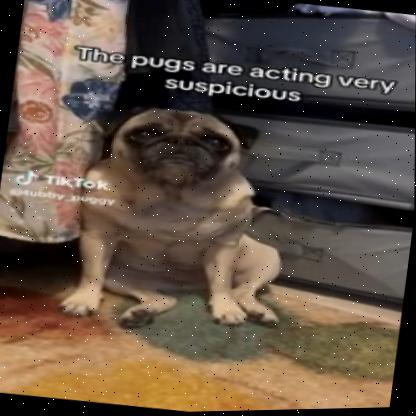dog: (69, 97, 317, 347)
